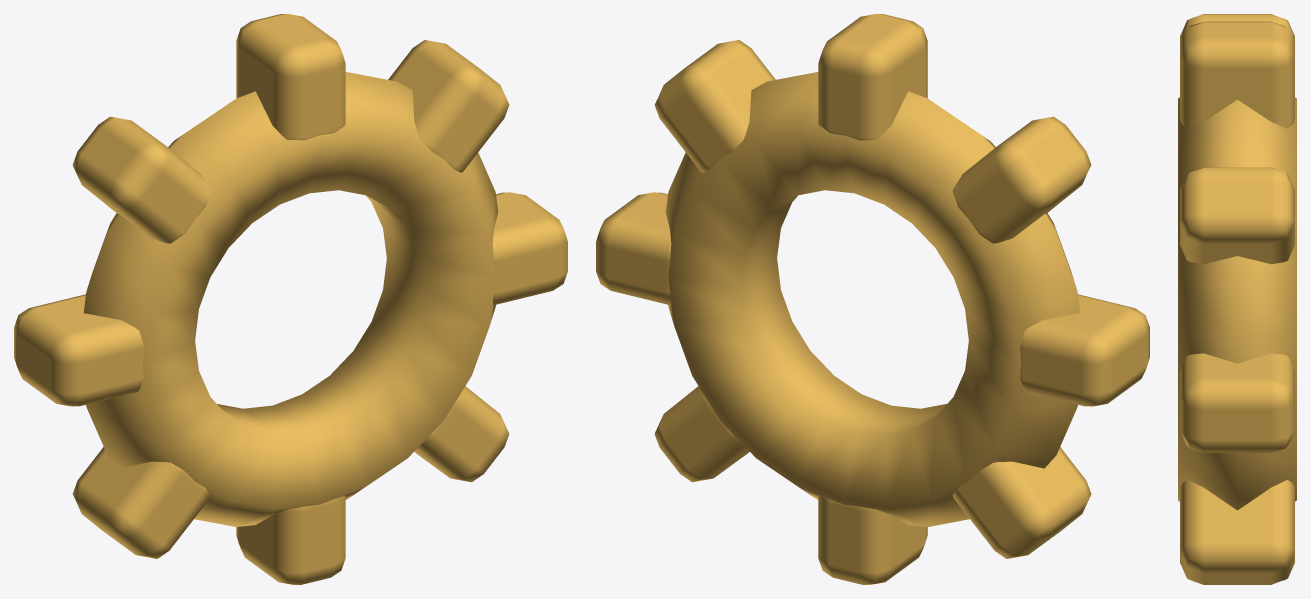
The model's file is treasure-studio.glb.
The picture shows the model from 3 angles, left to right: view 1: azimuth 30°, elevation 25°; view 2: azimuth 150°, elevation 25°; view 3: azimuth 270°, elevation 25°; orthographic projection.
Visible parts, largest first — view 1: collectible-studio; view 2: collectible-studio; view 3: collectible-studio.
Part boxes in pixels (x1,y1,x2,y2): collectible-studio: (14,14,567,584); collectible-studio: (596,14,1149,584); collectible-studio: (1178,14,1296,584).
Size of the model in its own units: 0.62 by 0.62 by 0.1236.
